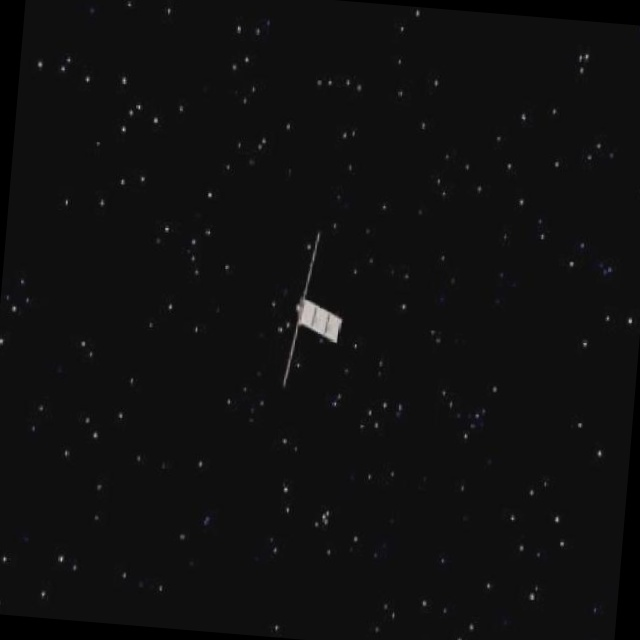satellite: (258, 227, 361, 406)
